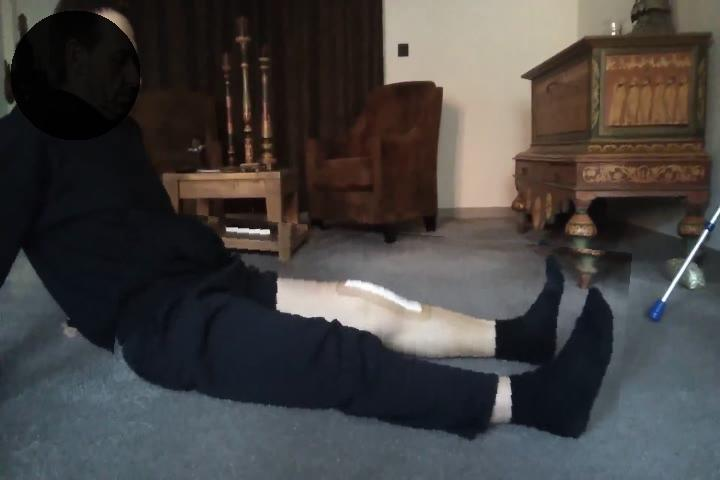lowerbody: (113, 221, 629, 455)
